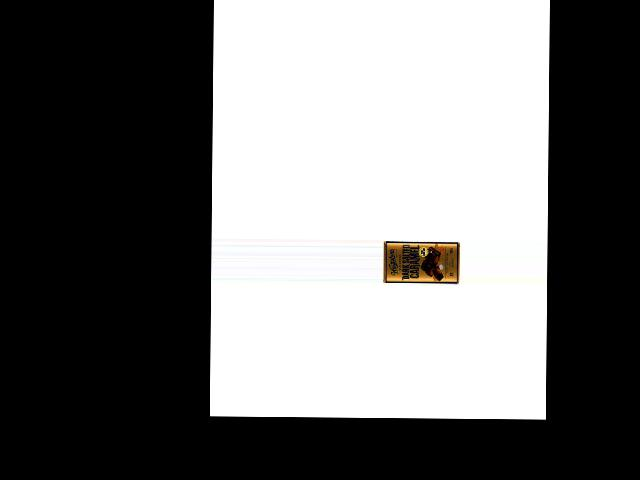chocolate: (384, 237, 461, 285)
